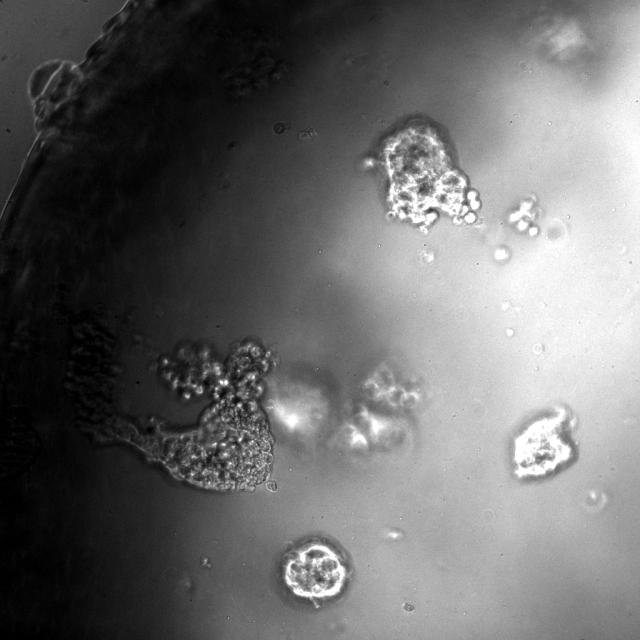organoid: (97, 338, 274, 491), (266, 363, 421, 454), (362, 117, 481, 232), (278, 536, 352, 609), (511, 405, 578, 481), (508, 195, 540, 237)
